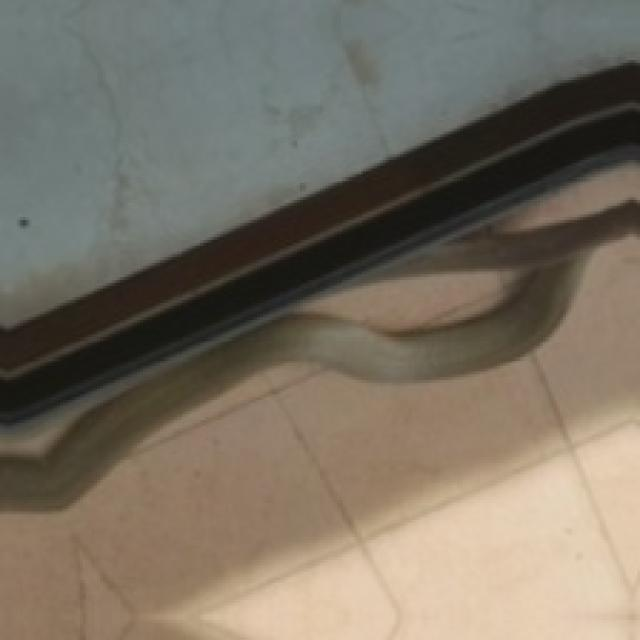king cobra: (0, 63, 637, 420)
